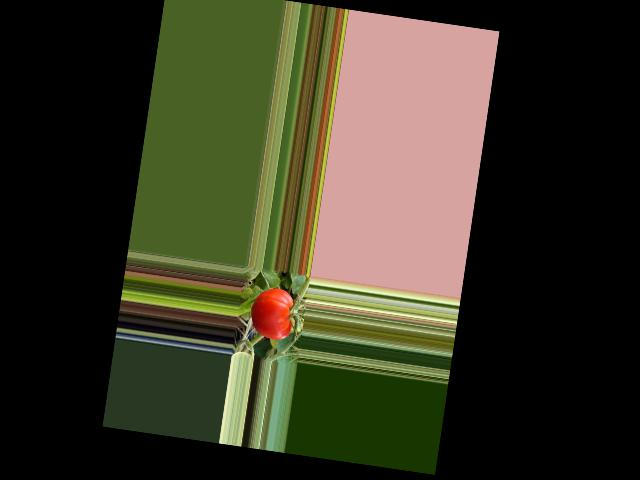tomato: (247, 285, 296, 342)
